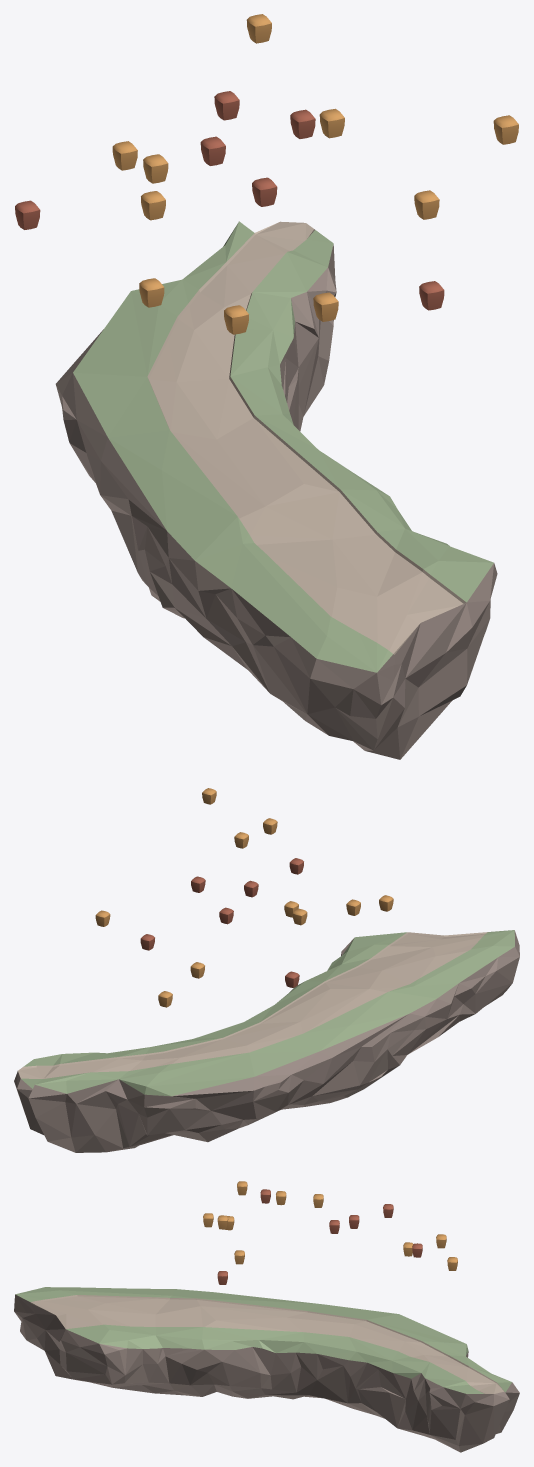
The model's file is Cliff_Track.001.fbx.
3 views of the same model, one above another, from view 1: azimuth 30°, elevation 25°; view 2: azimuth 150°, elevation 25°; view 3: azimuth 270°, elevation 25° (orthographic). The views are drawn at different scales.
Visible parts, largest first — view 1: Cliff_002:Cliff; view 2: Cliff_002:Cliff; view 3: Cliff_002:Cliff.
Part boxes in pixels (x1,y1,x2,y2): Cliff_002:Cliff: (55, 221, 497, 759); Cliff_002:Cliff: (14, 930, 519, 1152); Cliff_002:Cliff: (14, 1287, 519, 1452).
Bounding box in the file's own units: 57.76 × 57.29 × 112.
